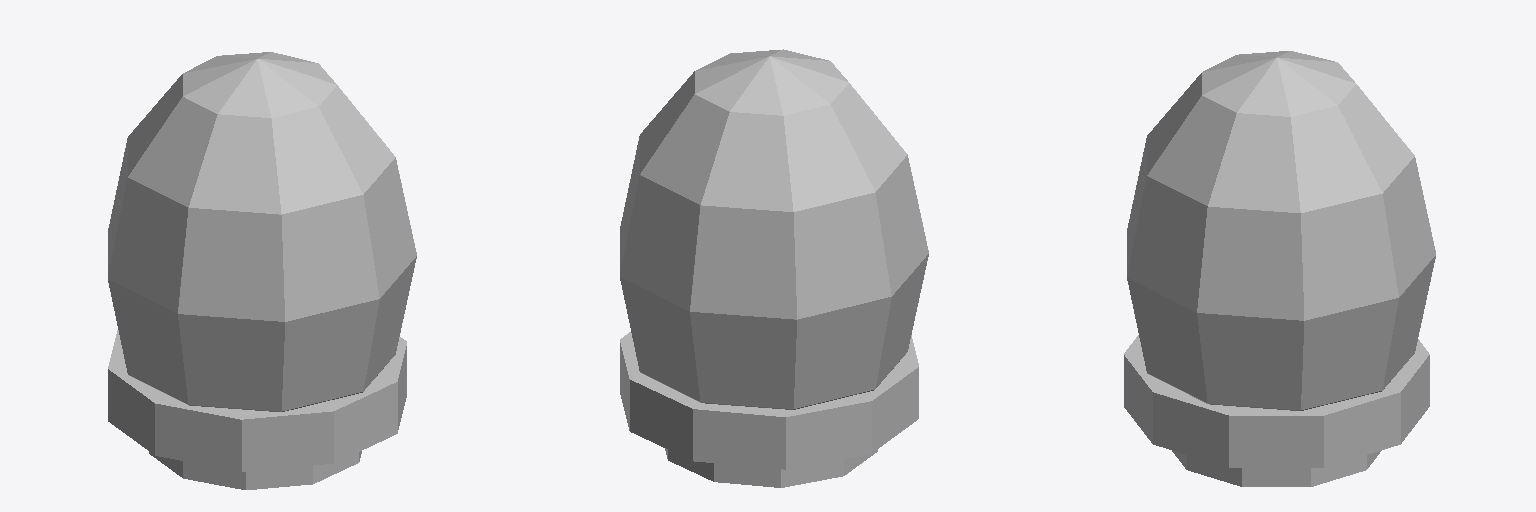
The model's file is light.obj.
3 renders of one model, left to right at view 1: azimuth 30°, elevation 25°; view 2: azimuth 150°, elevation 25°; view 3: azimuth 270°, elevation 25°, orthographic.
Visible parts, largest first — view 1: Sphere, Cylinder; view 2: Sphere, Cylinder; view 3: Sphere, Cylinder.
Boxes of the visible parts, x1,y1,x2,y2 form: Sphere: [108, 52, 416, 411]; Cylinder: [108, 330, 406, 489]; Sphere: [620, 49, 928, 409]; Cylinder: [620, 332, 918, 487]; Sphere: [1127, 51, 1435, 410]; Cylinder: [1124, 335, 1429, 486].
Size of the model in its own units: 2.69 by 3.75 by 2.68.